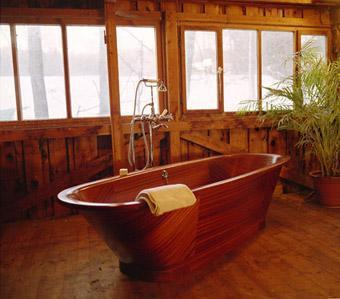Matera: (268, 52, 339, 208)
